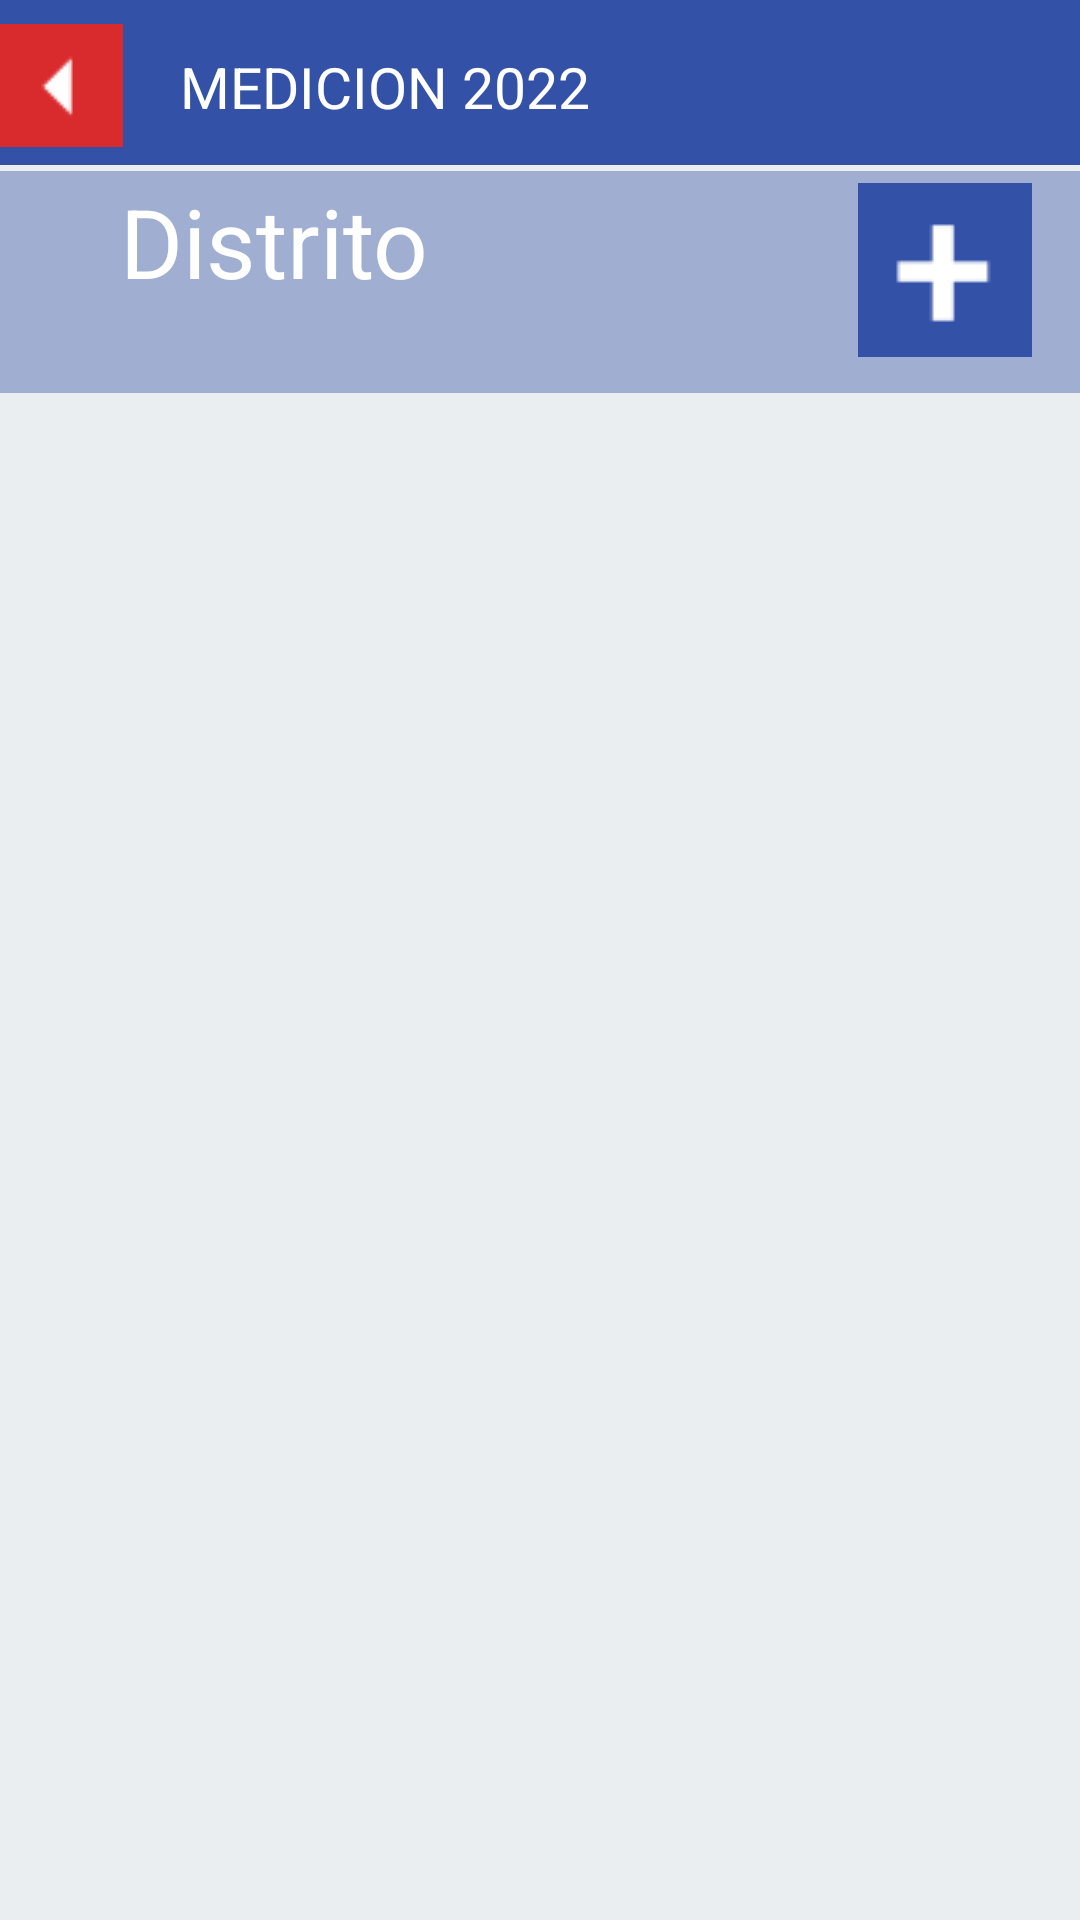

Icon bounding boxes for this 1080x1920 phone screenshot, format (x1, y1, x2, y2):
agregar: (858, 183, 1032, 357)
atras: (0, 24, 123, 147)
